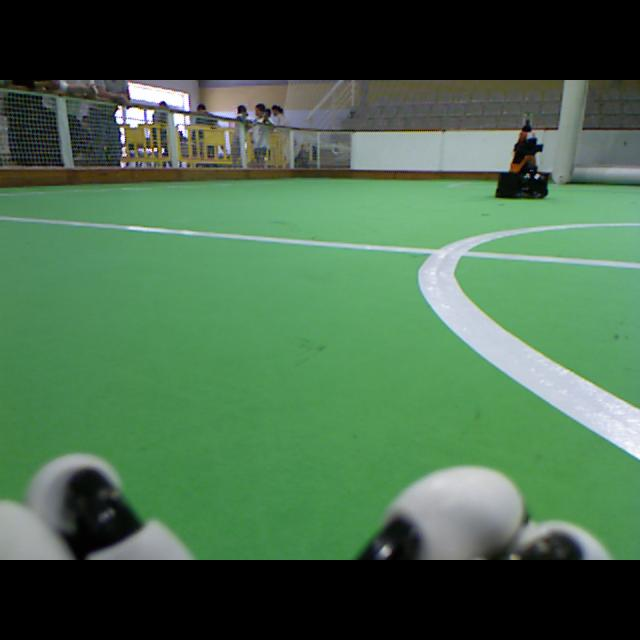robot: (496, 112, 548, 199)
